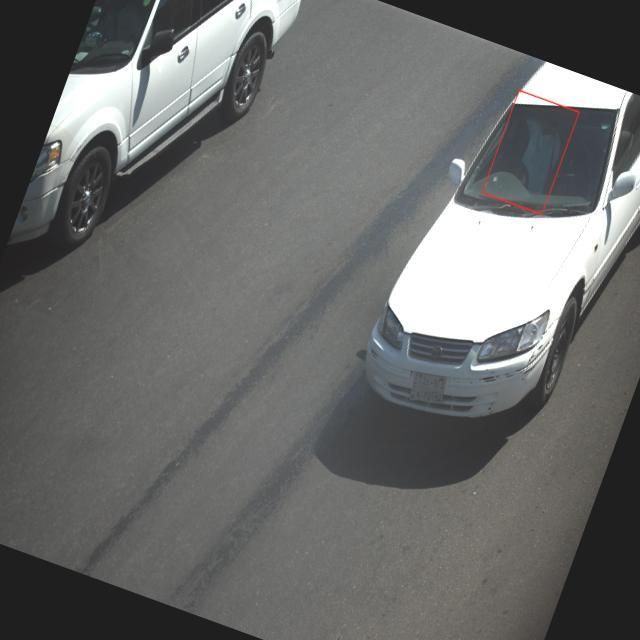windshield: (450, 96, 621, 222)
